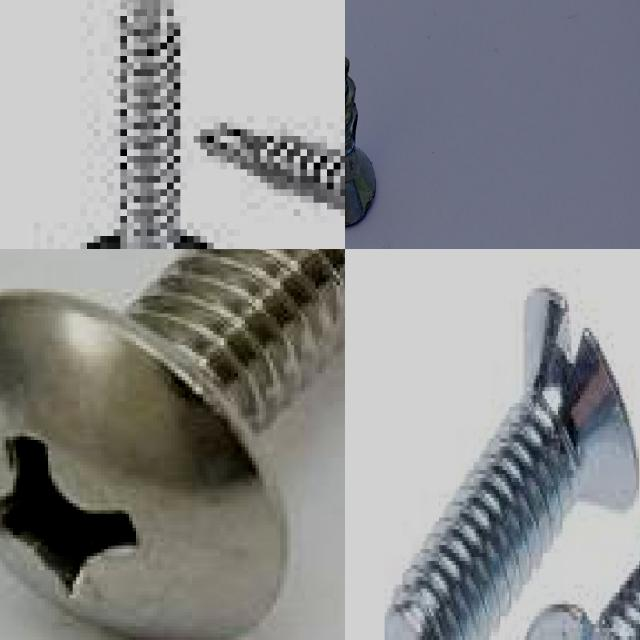Screw: (0, 249, 345, 640), (382, 288, 638, 640), (81, 0, 218, 249), (200, 123, 345, 209), (345, 55, 376, 225)
